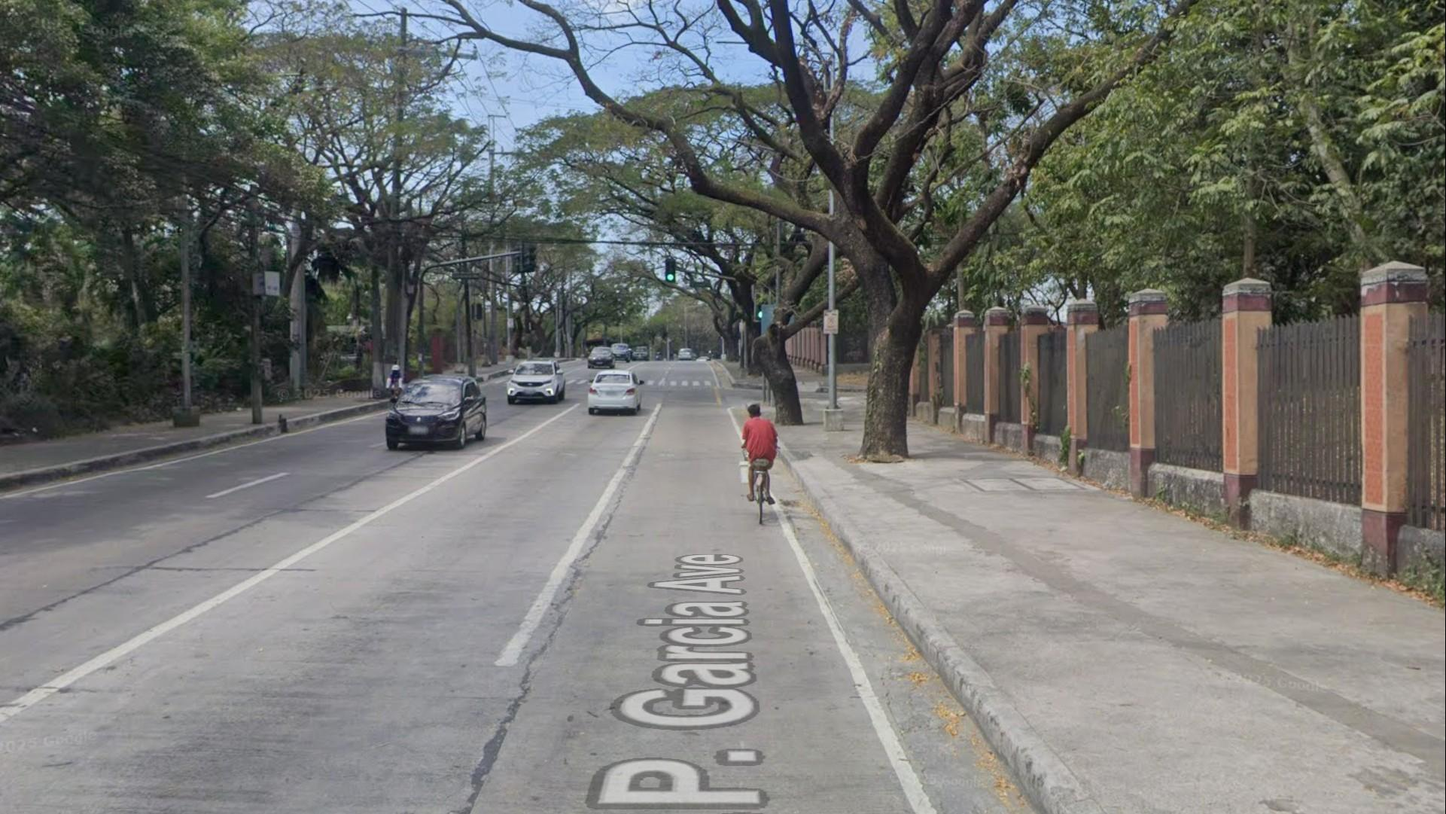cyclist: (739, 399, 781, 526), (385, 363, 410, 419)
